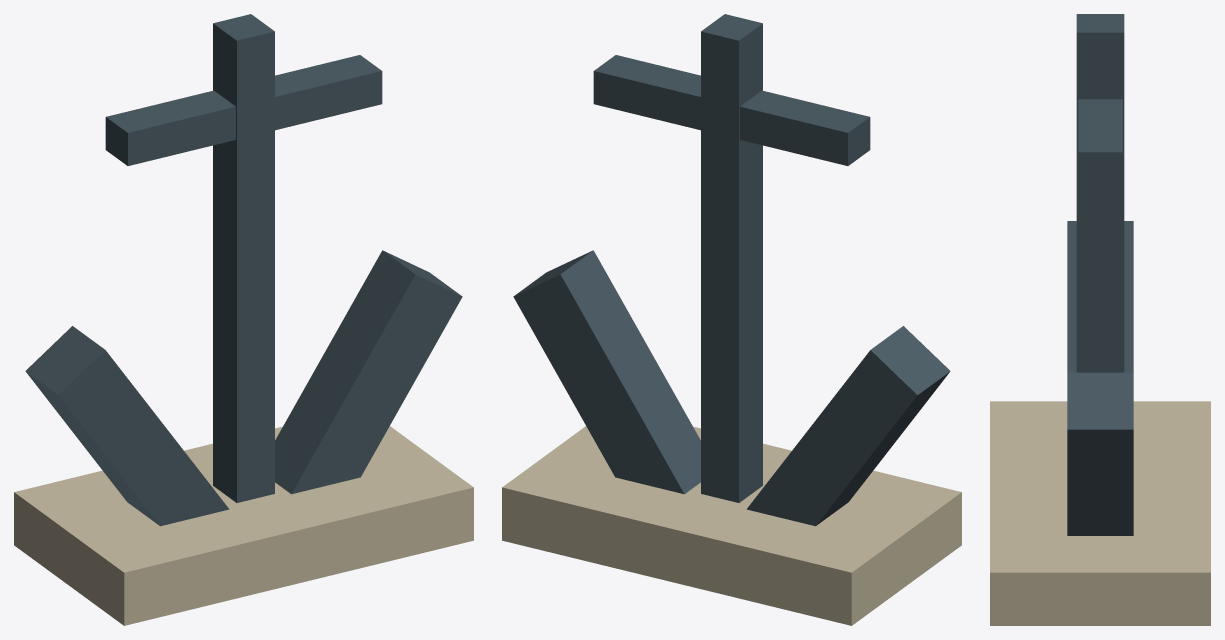
File: anchor_display.glb
3 views of the same model, side by side, from view 1: azimuth 30°, elevation 25°; view 2: azimuth 150°, elevation 25°; view 3: azimuth 270°, elevation 25° (orthographic).
Parts seen in each view (by area): view 1: anchor_display; view 2: anchor_display; view 3: anchor_display.
Boxes of the visible parts, x1=… form: anchor_display: x1=14, y1=14, x2=473, y2=625; anchor_display: x1=502, y1=14, x2=961, y2=625; anchor_display: x1=990, y1=14, x2=1210, y2=625.
Bounding box in the file's own units: 1.27 × 1.55 × 0.6.
